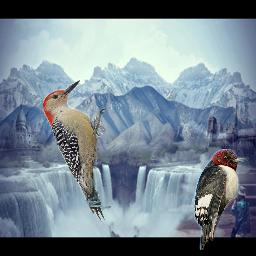Woodpecker: (43, 78, 106, 223), (194, 149, 249, 250)
